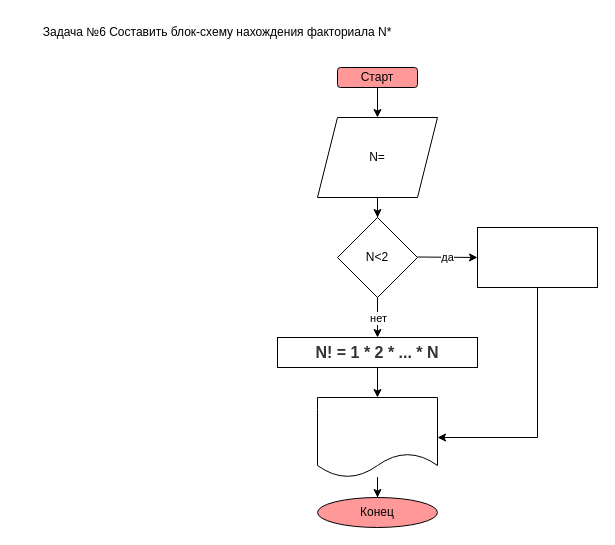
Some shapes in this 615 by 545 pixel diagram are drawn without their labels. Here are the shapes that lost their labels. From the top down, the centre of each, then its label:
point 537,257: N!=1
point 377,437: Print N!
